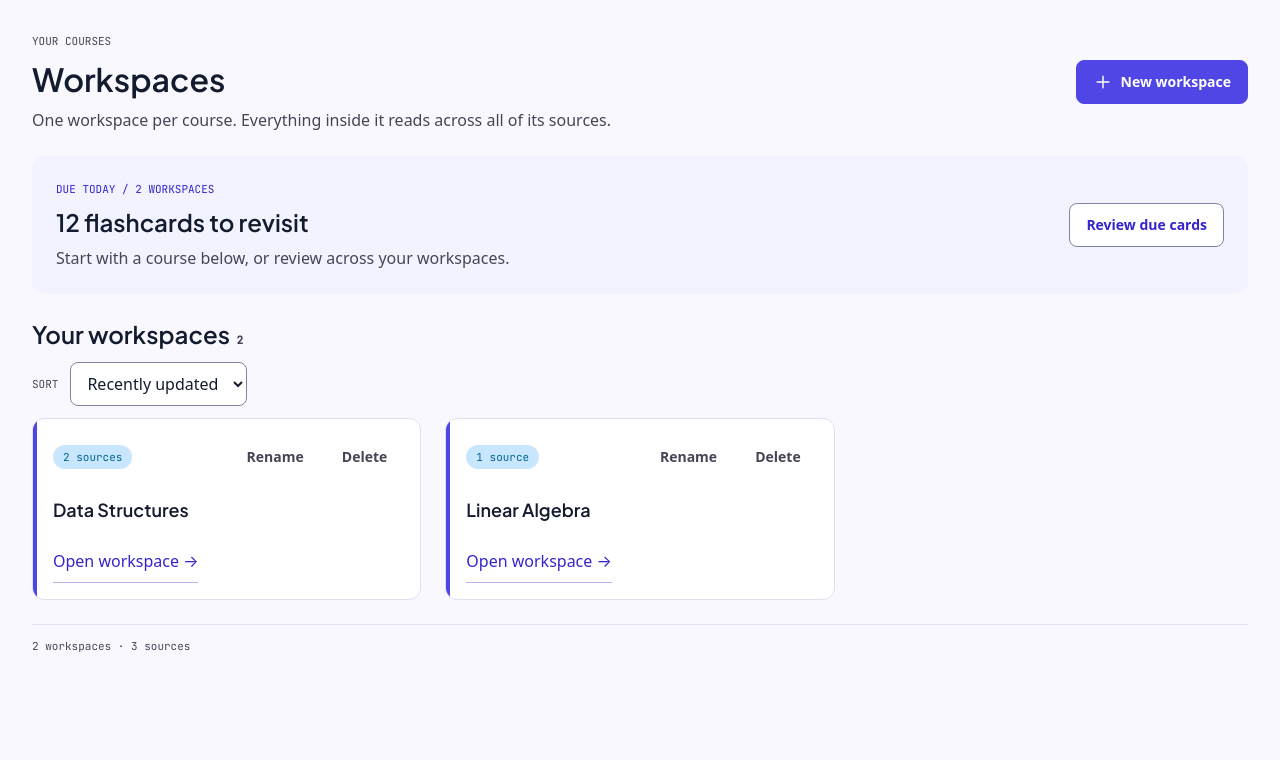
Scenario: the workspace list › shows the plan limit, with the numbers, when the server refuses the create
// The create form is behind the header's one primary action.
Step 1. Click the button "New workspace" → x=1162, y=82, box [1076,60,1248,104]
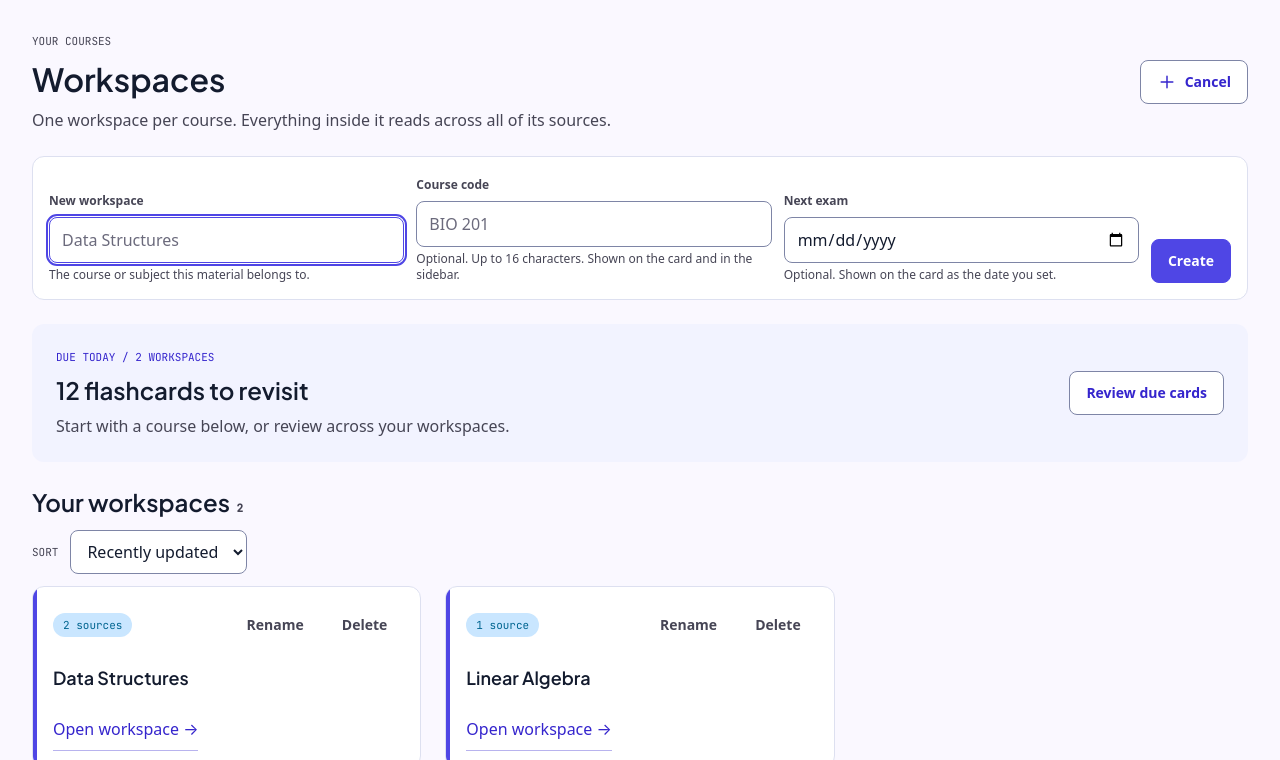
Step 2. Type "Third course" into the field labelled "New workspace" → x=227, y=240, box [49,217,404,263]
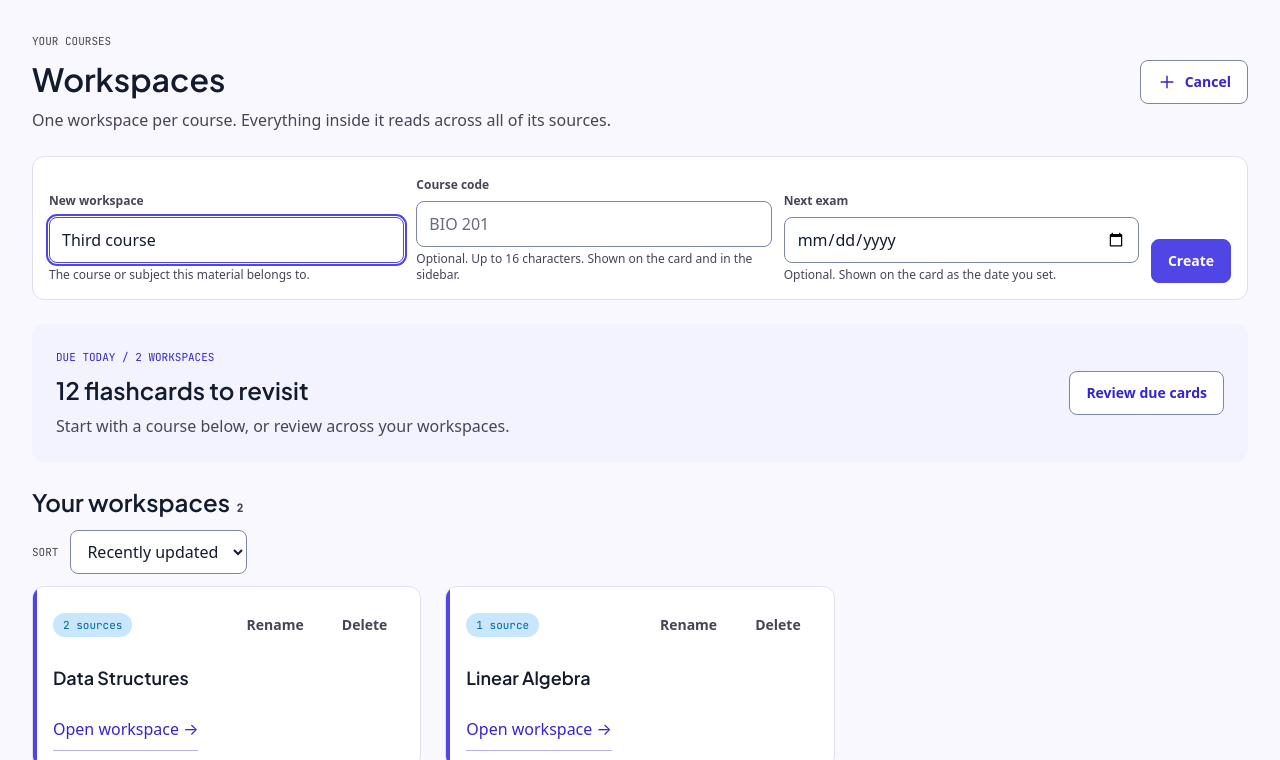
Step 3. Click the button "Create" → x=1191, y=261, box [1151,239,1231,283]
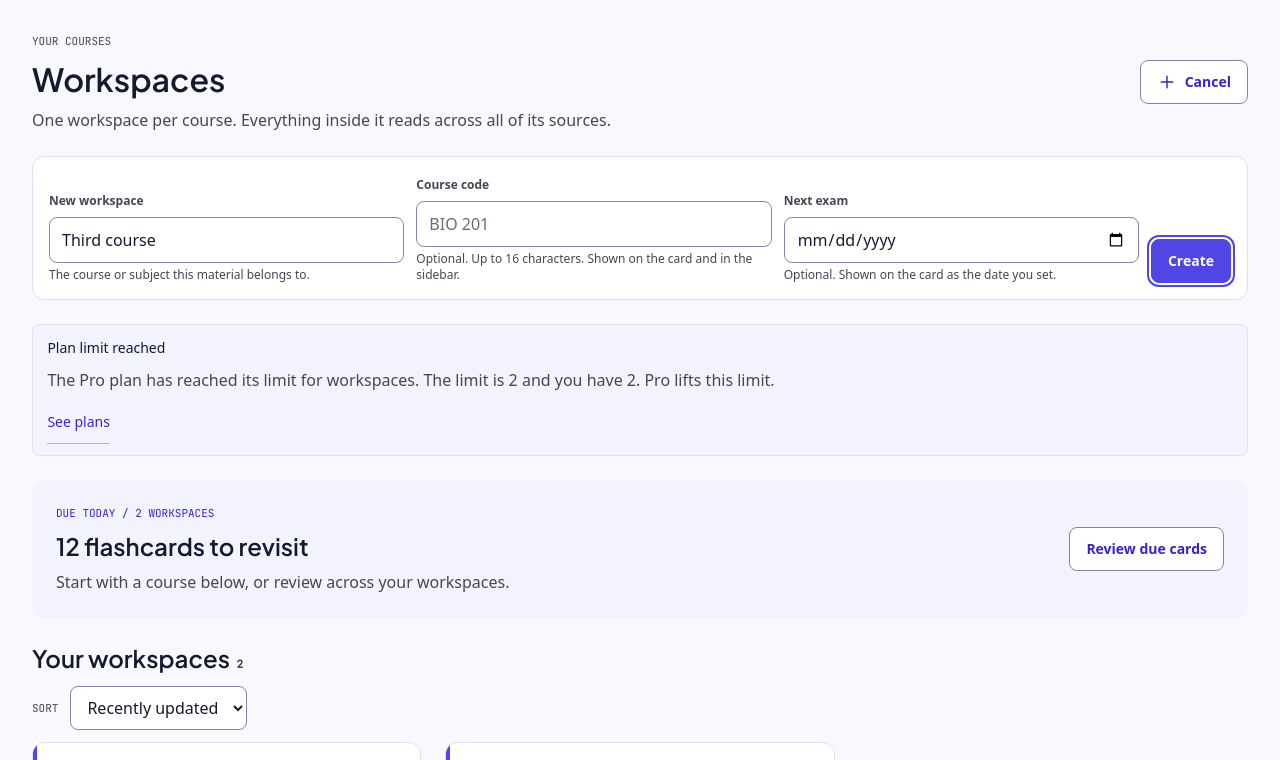
Expected: the text "Plan limit reached" is shown, [47,336,165,360]
Expected: the text "Pro lifts this limit." is shown, [47,369,775,391]
Expected: the link "See plans" is shown, [47,400,110,444]
